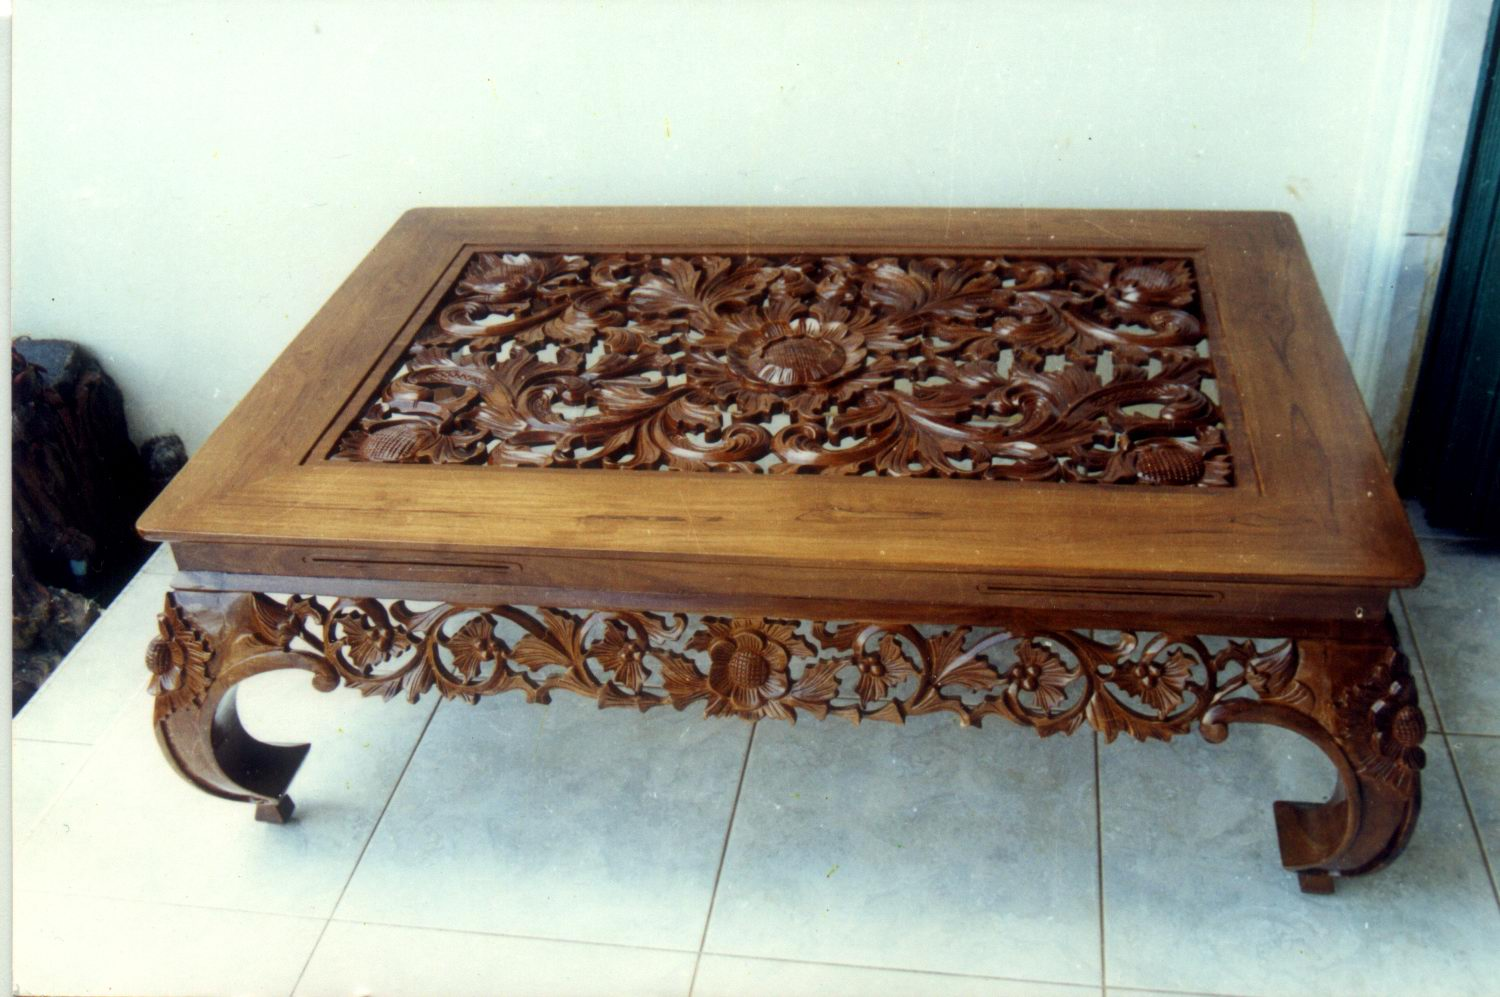Carving Table: (149, 193, 1431, 858)
